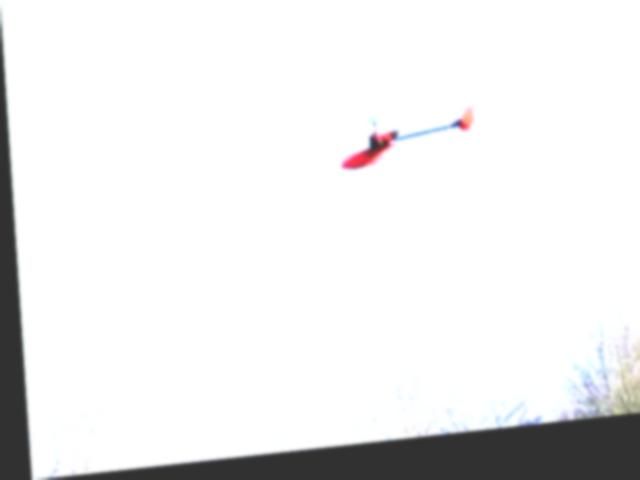uav: (325, 104, 481, 193)
